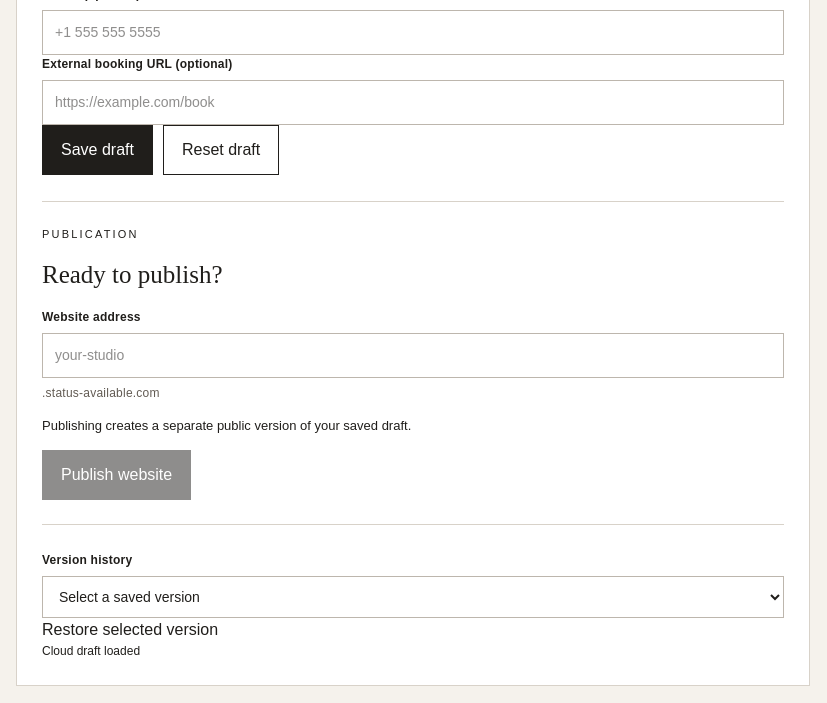
Test: Customer publication interface › does not claim success when publication cannot be confirmed
(page scrolled)
In the field with placeholder "your-studio": (413, 355) x1=42 y1=333 x2=784 y2=378, type "example-studio"
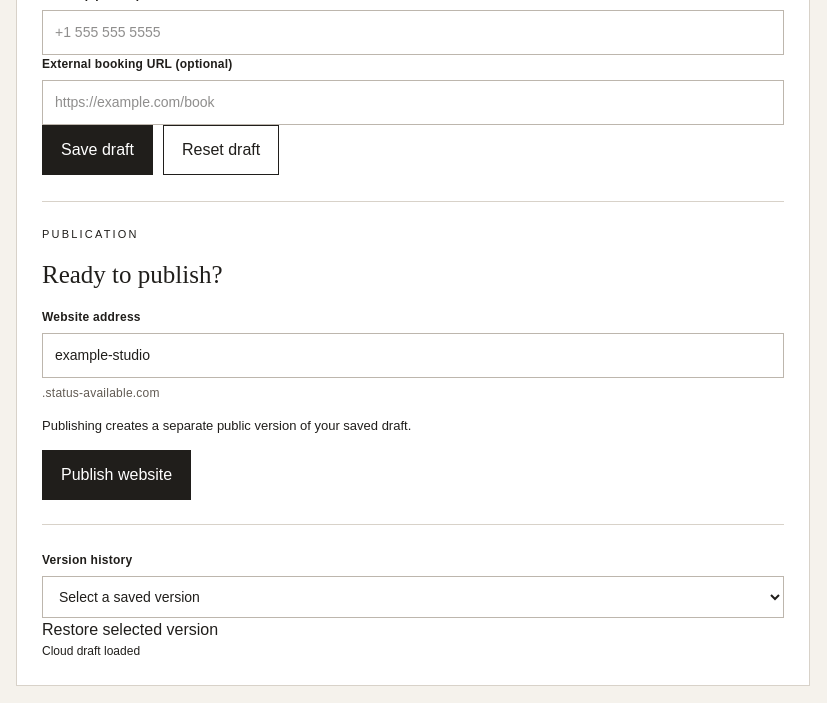
Click the button "Publish website": (117, 475) x1=42 y1=450 x2=191 y2=500
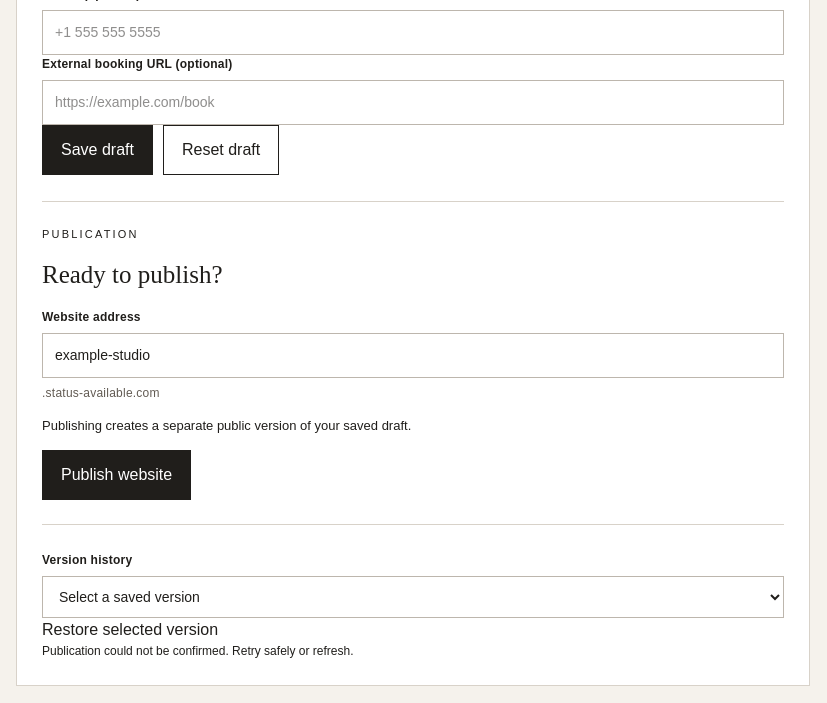
Check: the text "Publication could not be confirmed. Retry safely or refresh." is shown, box x1=42 y1=644 x2=354 y2=658
